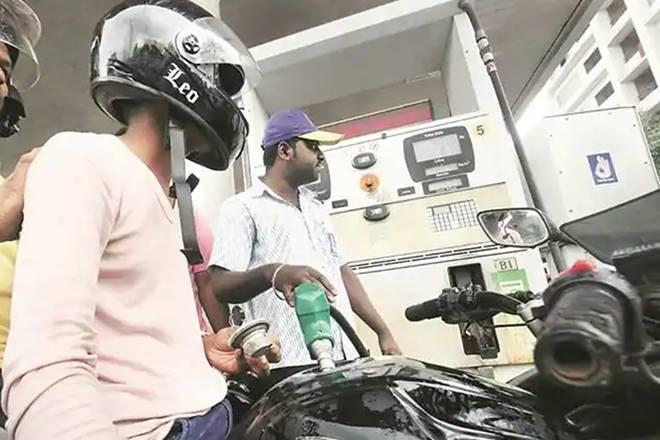helmet: (88, 0, 263, 172)
nohelmet: (261, 108, 341, 190)
